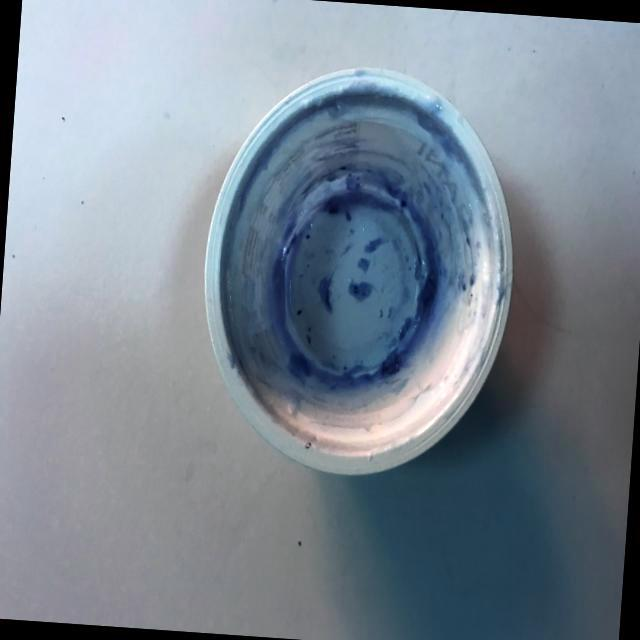plastic: (133, 14, 584, 522)
